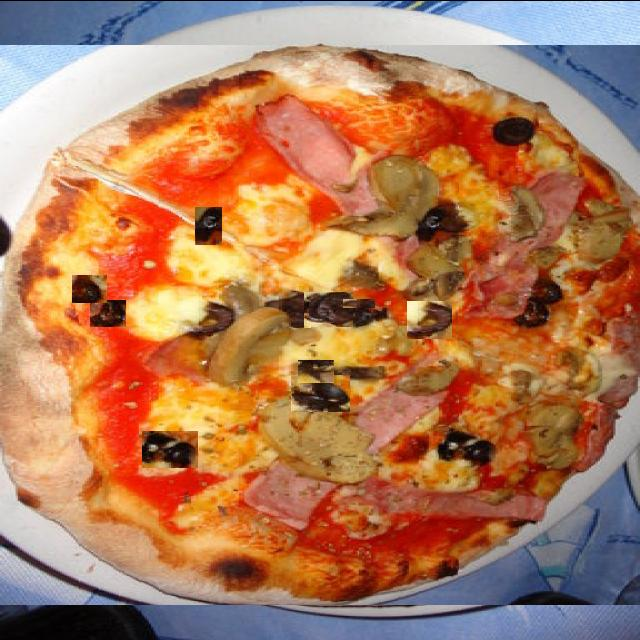olive: (291, 374, 350, 411), (142, 428, 198, 466), (304, 291, 353, 326), (407, 300, 452, 338), (249, 302, 311, 326), (100, 117, 147, 145), (195, 206, 222, 244), (72, 274, 107, 302), (90, 299, 126, 326), (298, 359, 334, 382), (343, 298, 375, 307)
pizza: (0, 44, 640, 604)
